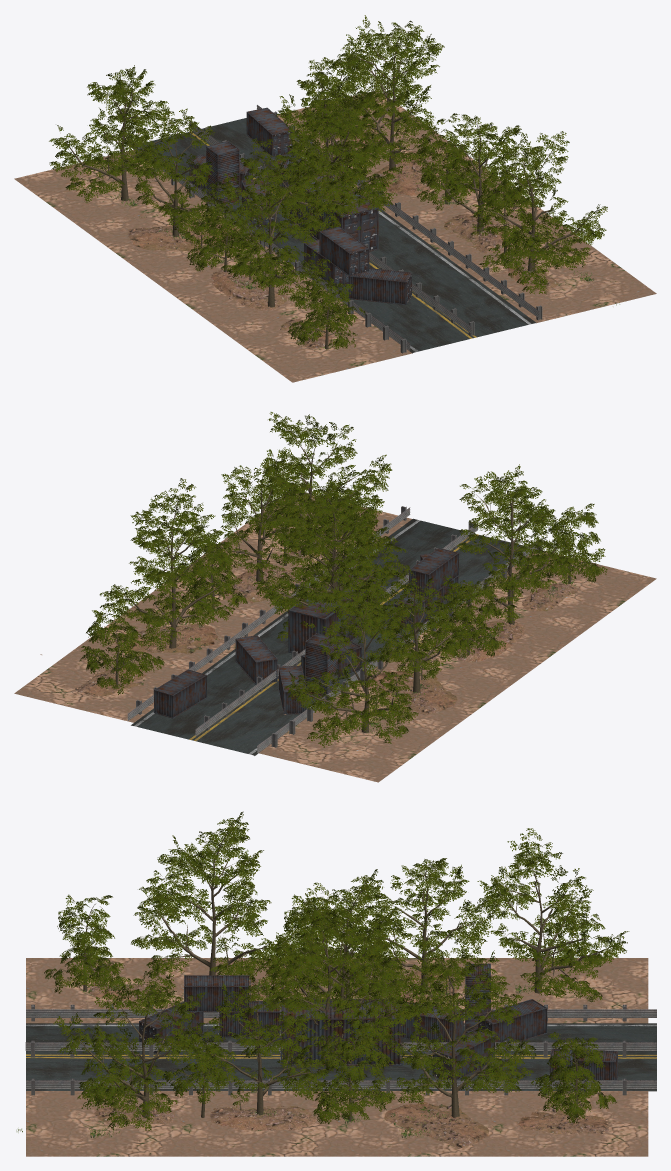
Rendered from cs_country.glb.
The picture shows the model from 3 angles, top to bottom: view 1: azimuth 30°, elevation 25°; view 2: azimuth 150°, elevation 25°; view 3: azimuth 270°, elevation 25°; orthographic projection. The views are drawn at different scales.
Parts seen in each view (by area): view 1: scene, boxes, acer2, acer1, acer3, crate, rail; view 2: scene, boxes, acer2, acer1, acer3, crate, rail; view 3: scene, boxes, acer2, acer1, acer3, crate, rail.
Boxes of the visible parts, x1,y1,x2,y2 form: scene: (14,15,656,382); boxes: (189,107,411,304); acer2: (275,60,390,229); acer1: (263,95,404,241); acer3: (275,95,393,227); crate: (287,171,378,251); rail: (189,121,474,336); scene: (14,412,656,782); boxes: (154,548,458,718); acer2: (262,473,409,635); acer1: (252,480,407,643); acer3: (288,501,397,614); crate: (288,571,379,653); rail: (195,522,478,736); scene: (16,811,656,1156); boxes: (139,963,617,1079); acer2: (262,869,416,1044); acer1: (256,882,419,1067); acer3: (267,912,414,1029); crate: (280,998,402,1065); rail: (25,1040,656,1057).
Bounding box in the file's own units: 23.3 × 10.2 × 31.88.
11 materials, 11 textured.
